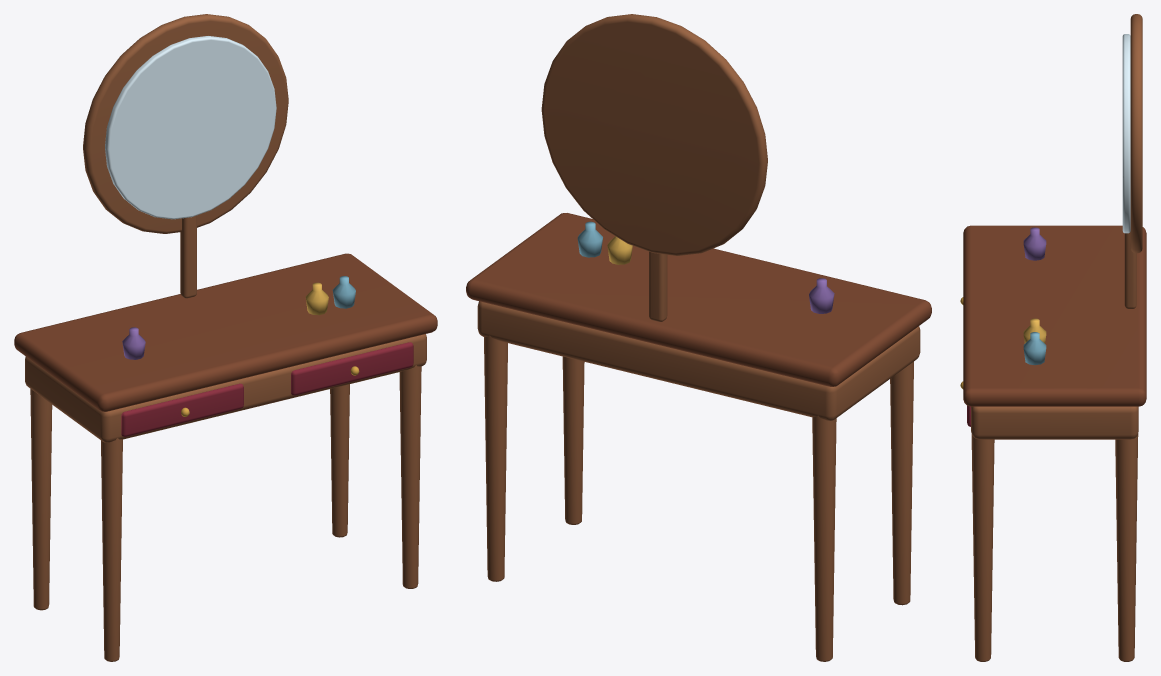
Rendered from vanity-table.glb.
3 views of the same model, side by side, from view 1: azimuth 30°, elevation 25°; view 2: azimuth 150°, elevation 25°; view 3: azimuth 270°, elevation 25° (orthographic). The views are drawn at different scales.
Parts seen in each view (by area): view 1: vanity-table; view 2: vanity-table; view 3: vanity-table.
Part boxes in pixels (x1,y1,x2,y2): vanity-table: (14,14,437,661); vanity-table: (466,14,931,661); vanity-table: (960,14,1146,661).
Size of the model in its own units: 1 by 1.55 by 0.467.
